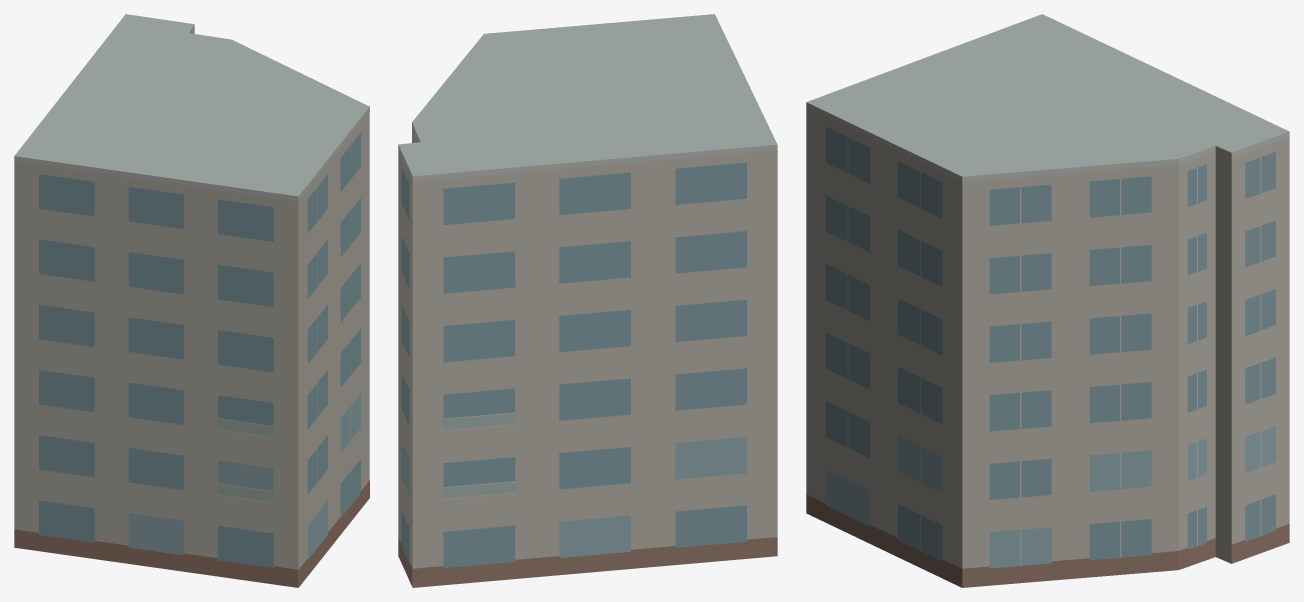
File: survey-upis-32882465.glb
The picture shows the model from 3 angles, left to right: view 1: azimuth 30°, elevation 25°; view 2: azimuth 150°, elevation 25°; view 3: azimuth 270°, elevation 25°; orthographic projection. The views are drawn at different scales.
Parts seen in each view (by area): view 1: survey-upis-32882465.tmp; view 2: survey-upis-32882465.tmp; view 3: survey-upis-32882465.tmp.
Boxes of the visible parts, box(x1,y1,x2,y2) form: survey-upis-32882465.tmp: box(14, 14, 369, 587); survey-upis-32882465.tmp: box(398, 14, 777, 587); survey-upis-32882465.tmp: box(806, 14, 1289, 587).
Size of the model in its own units: 15.54 by 18.3 by 19.5.
